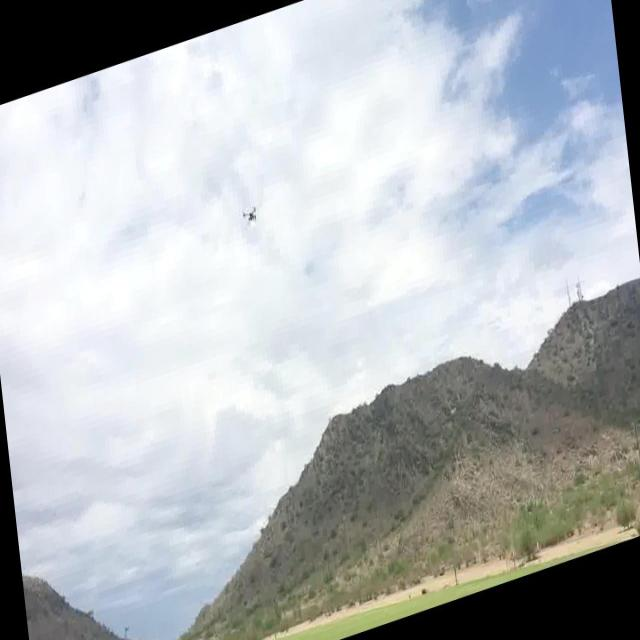drone: (239, 200, 261, 229)
